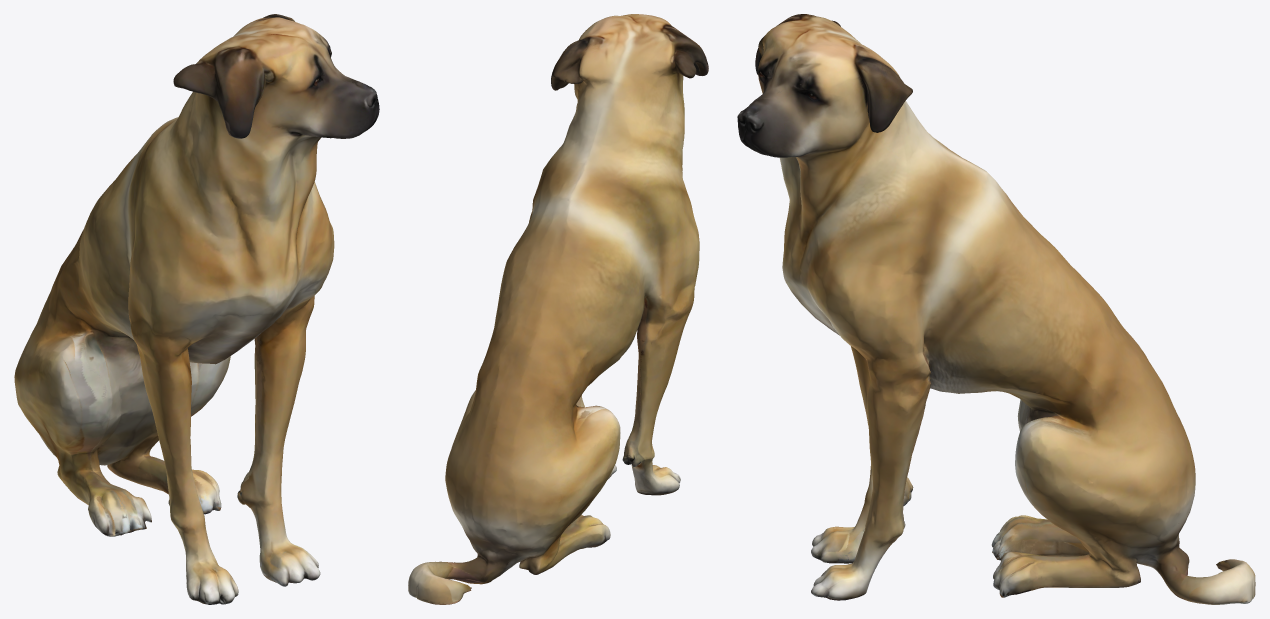
3 renders of one model, left to right at view 1: azimuth 30°, elevation 25°; view 2: azimuth 150°, elevation 25°; view 3: azimuth 270°, elevation 25°, orthographic. The views are drawn at different scales.
Bounding box in the file's own units: 0.7055 × 2 × 1.71.
1 material, 1 textured.
